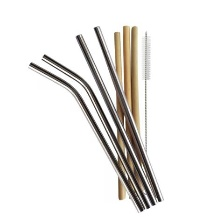drinking_straw: (25, 58, 150, 215)
